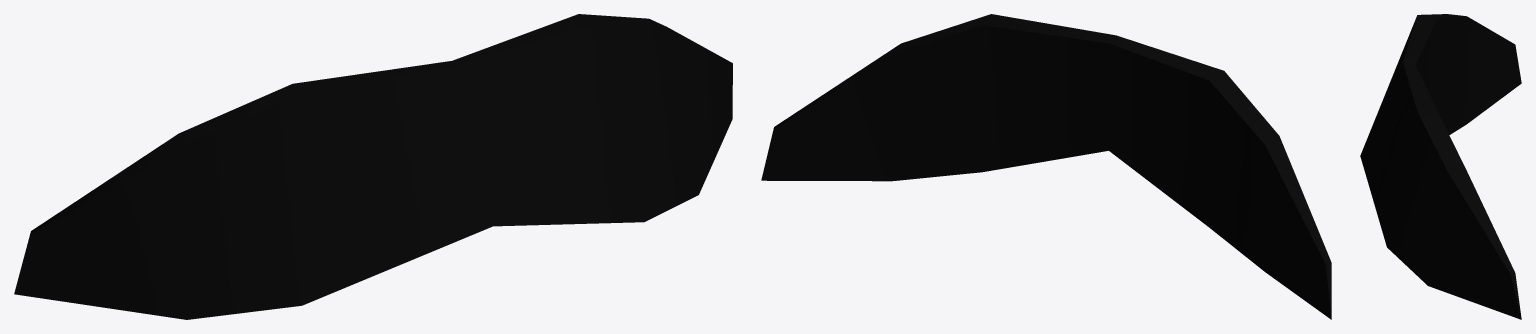
File: Hair_19.fbx
The picture shows the model from 3 angles, left to right: view 1: azimuth 30°, elevation 25°; view 2: azimuth 150°, elevation 25°; view 3: azimuth 270°, elevation 25°; orthographic projection. The views are drawn at different scales.
Visible parts, largest first — view 1: Hair_19; view 2: Hair_19; view 3: Hair_19.
Part boxes in pixels (x1,y1,x2,y2): Hair_19: (14, 14, 732, 319); Hair_19: (761, 14, 1331, 319); Hair_19: (1360, 14, 1521, 319).
Size of the model in its own units: 60.63 by 16.64 by 17.5.
